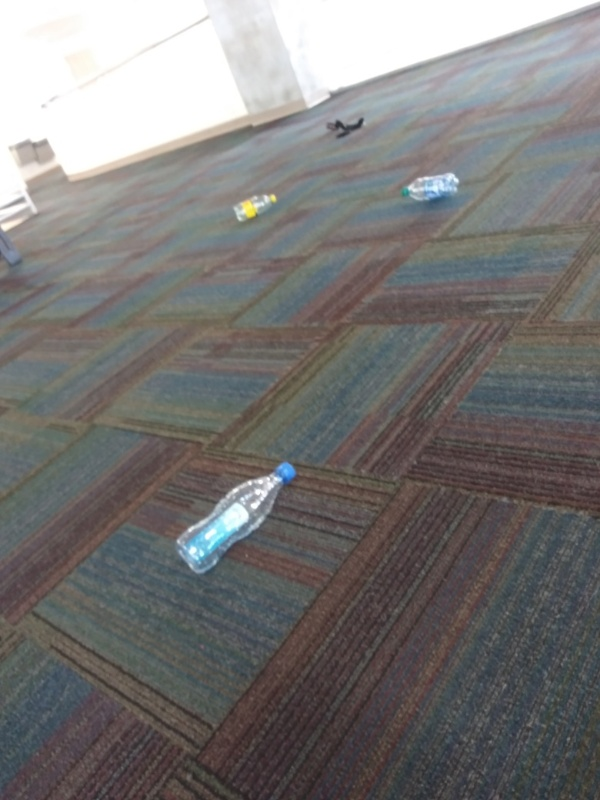bottle: (165, 459, 301, 587), (394, 170, 462, 205), (226, 190, 278, 223)
